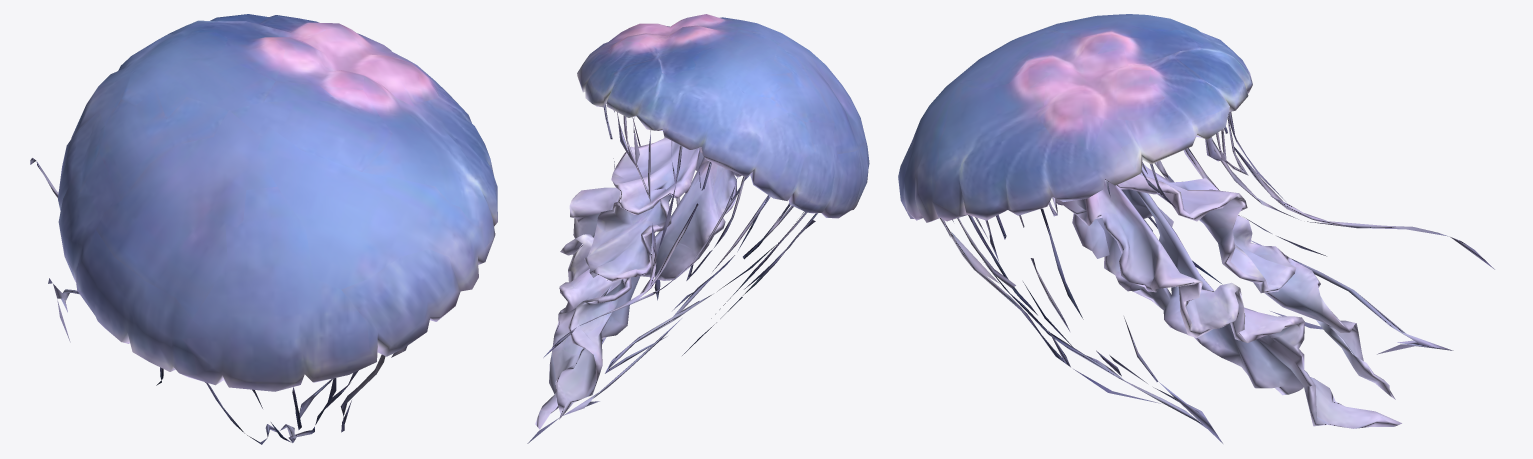
The model's file is jelly.glb.
3 renders of one model, left to right at view 1: azimuth 30°, elevation 25°; view 2: azimuth 150°, elevation 25°; view 3: azimuth 270°, elevation 25°, orthographic. The views are drawn at different scales.
Visible parts, largest first — view 1: tripo_node_64595841-48ad-471d-9c93-c1959003a6bf; view 2: tripo_node_64595841-48ad-471d-9c93-c1959003a6bf; view 3: tripo_node_64595841-48ad-471d-9c93-c1959003a6bf.
Boxes of the visible parts, box(x1,y1,x2,y2) form: tripo_node_64595841-48ad-471d-9c93-c1959003a6bf: box(30, 14, 497, 444); tripo_node_64595841-48ad-471d-9c93-c1959003a6bf: box(527, 14, 869, 443); tripo_node_64595841-48ad-471d-9c93-c1959003a6bf: box(898, 14, 1494, 443).
Bounding box in the file's own units: 0.5659 × 0.6681 × 1.
Materials: 1 (1 with a texture image).
